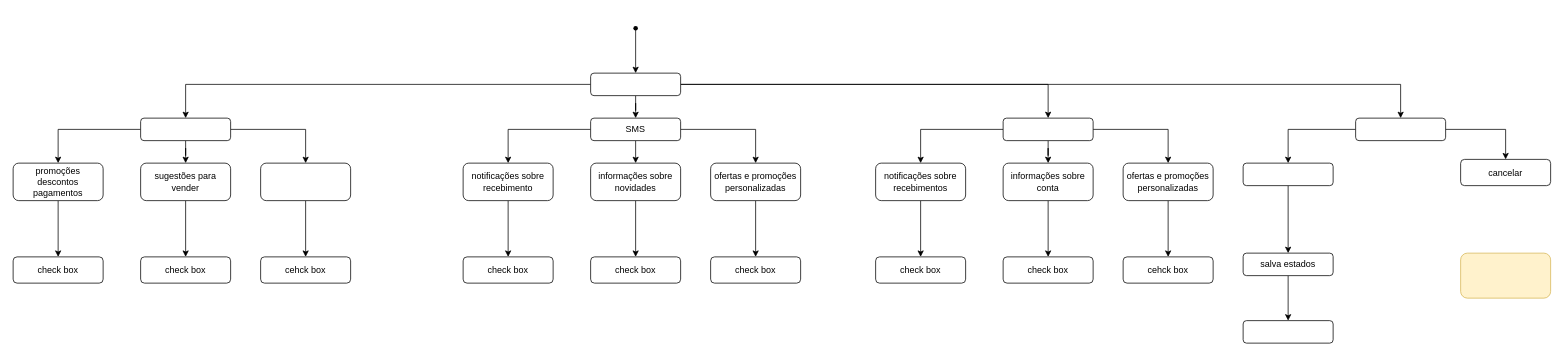
The diagram is 1564 pixels wide and 356 high, and some of its shapes have lost their labels. Here are the shapes that lost their labels. From the top down, the centre of each, then its label:
At point 635,84: "página/menu comunicações".
At point 185,129: "e-mail".
At point 1047,129: "WhatsApp".
At point 1400,129: "botões".
At point 305,181: "novidades para desenvolvedores".
At point 1287,174: "salvar".
At point 1505,275: "meramente visual".
At point 1287,331: "desativa botão".
